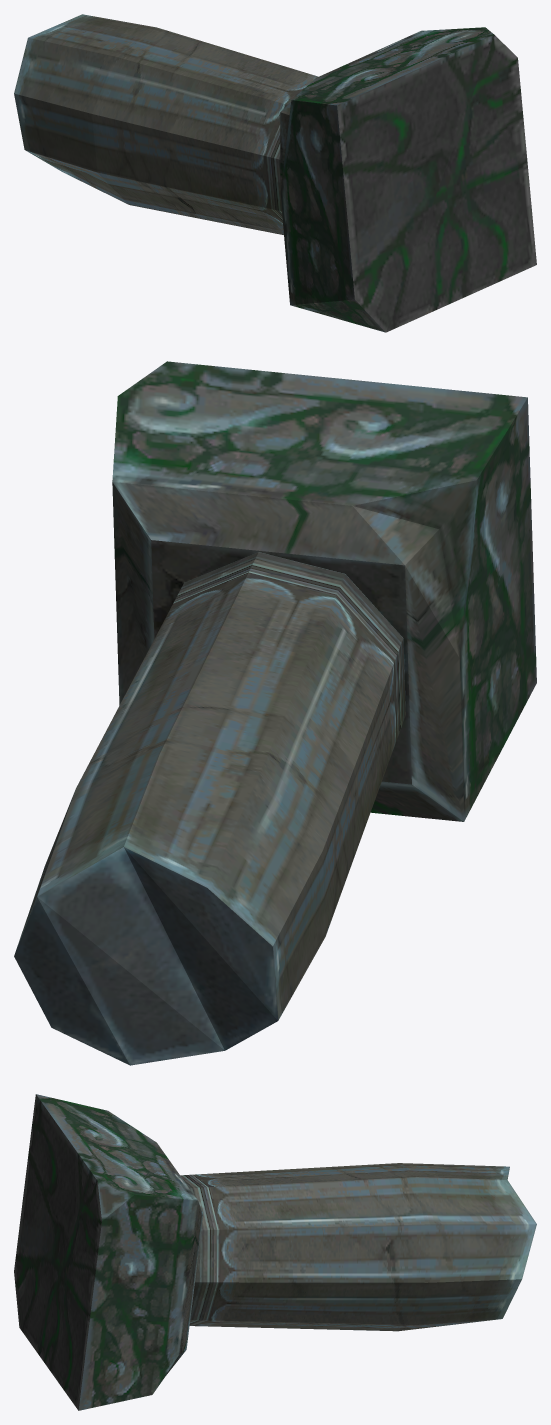
The model's file is stemple_pillar_07.fbx.
3 renders of one model, top to bottom at view 1: azimuth 30°, elevation 25°; view 2: azimuth 150°, elevation 25°; view 3: azimuth 270°, elevation 25°, orthographic. The views are drawn at different scales.
Parts seen in each view (by area): view 1: obj0.186; view 2: obj0.186; view 3: obj0.186.
Boxes of the visible parts, <box> form: obj0.186: <box>14,14,536,332</box>; obj0.186: <box>14,361,536,1065</box>; obj0.186: <box>14,1094,536,1410</box>.
Size of the model in its own units: 3.06 by 2.3 by 4.87.
